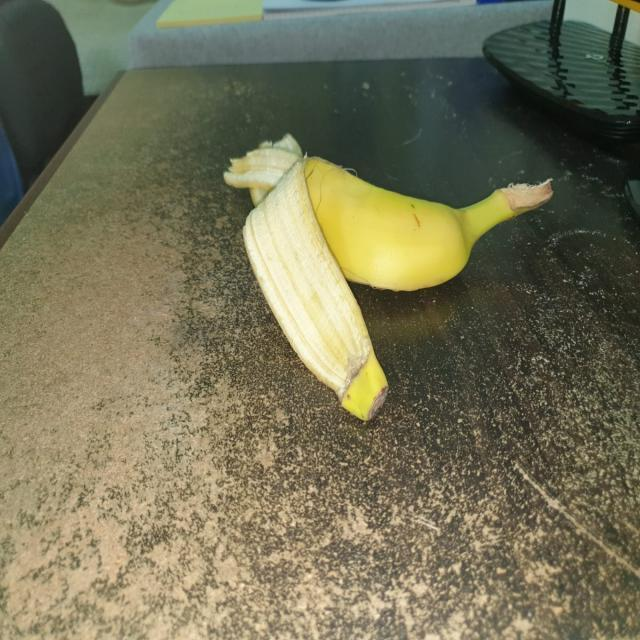banana-peel: (222, 132, 554, 292), (230, 135, 389, 422)
